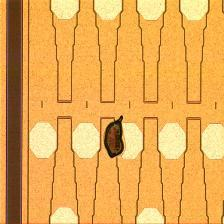PARTICLE: (91, 112, 139, 160)
